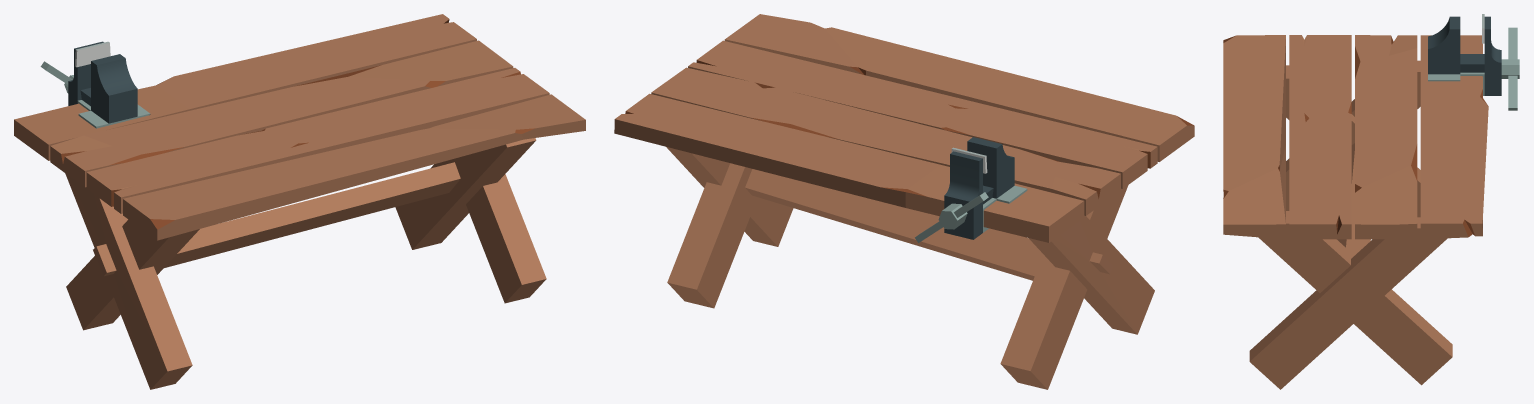
The model's file is Table.fbx.
3 renders of one model, left to right at view 1: azimuth 30°, elevation 25°; view 2: azimuth 150°, elevation 25°; view 3: azimuth 270°, elevation 25°, orthographic. The views are drawn at different scales.
Visible parts, largest first — view 1: Table; view 2: Table; view 3: Table.
Boxes of the visible parts, box(x1,y1,x2,y2) form: Table: box(14, 14, 585, 389); Table: box(614, 14, 1194, 389); Table: box(1223, 14, 1519, 389).
Size of the model in its own units: 78.16 by 43.33 by 51.63.
